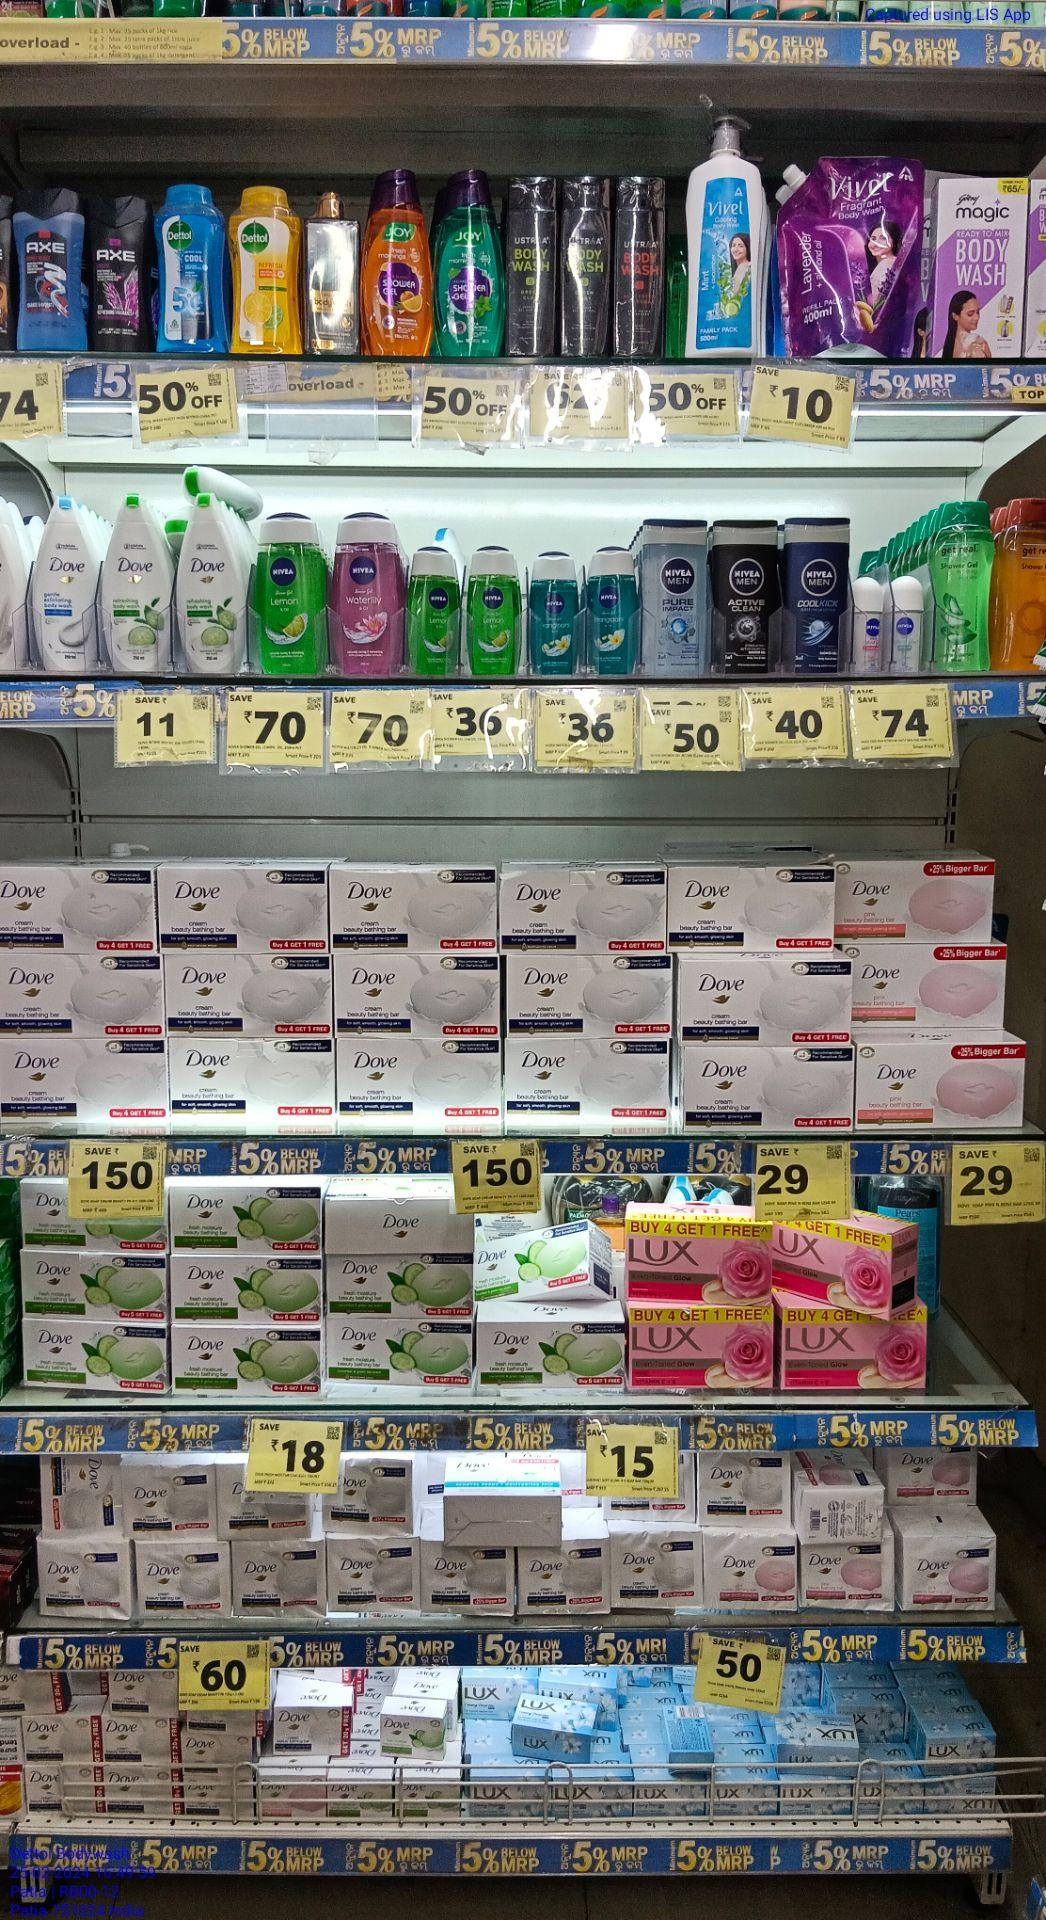Dettol_Bodywash_Cool: (153, 183, 227, 352)
Dettol_Bodywash_Refresh: (231, 184, 296, 352)
Dove_Gentle_Exfoliating_Body_Wash_250ML: (30, 497, 94, 671)
Dove_Refreshing_Body_Wash_250ML: (104, 496, 174, 673), (176, 496, 241, 673)
Get_Real_Shower_Gel_Moisturising_Glycerin_300ML: (1007, 497, 1046, 672)
Joy_Shower_Gel_Mandarin_and_Lemongrass_250ML: (361, 170, 432, 359)
Joy_Shower_Gel_Mint_and_Eucalyptus_250ML: (438, 169, 504, 359)
Nivea_Shower_Gel_Lemon_and_Oil_250ML: (259, 514, 319, 679)
Nivea_Shower_Gel_Waterlily_and_Oil_250ML: (332, 515, 401, 673)
